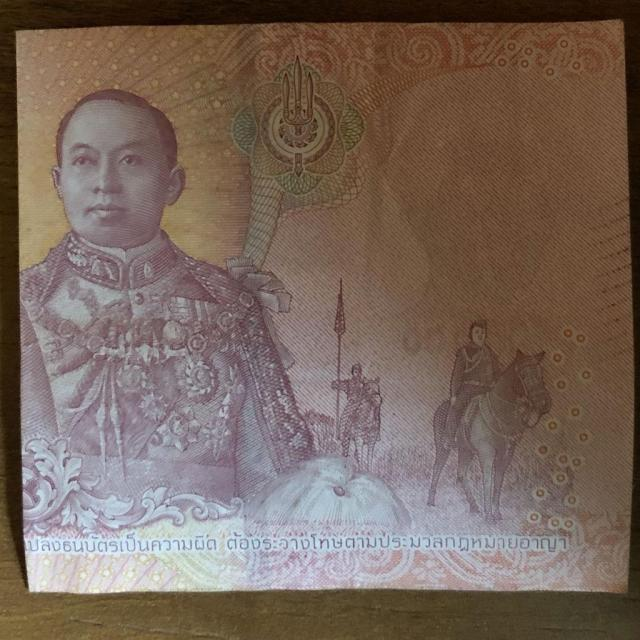THAI100: (18, 21, 633, 593)
